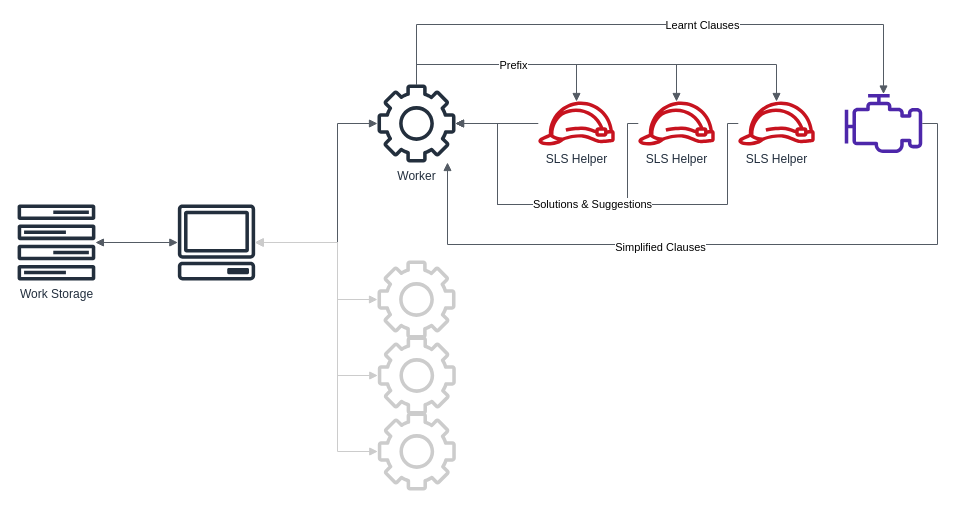
Some shapes in this 963 by 508 pixel diagram are drawn without their labels. The shapes that lost their labels are listed below. From the top down, each one's box as (x1, y1, x2, y2) in pixels, then its label:
(844, 94, 922, 152): Strengthener
(177, 204, 255, 280): Master
